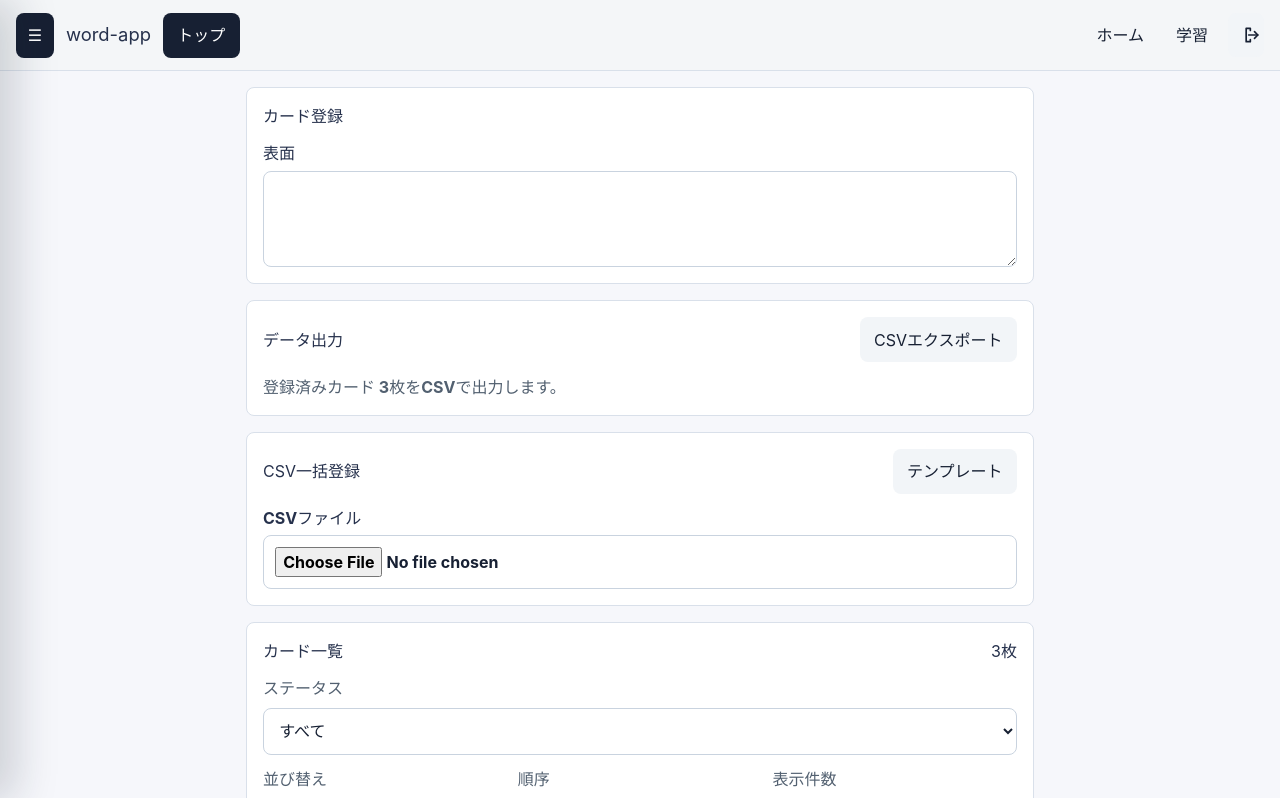
Test: App › shows the selected edit directory as breadcrumbs in the header
This screenshot has width=1280, height=798.
Step 1. Click the button named "編集ディレクトリを開く" → [35, 35], box [16,13,54,58]
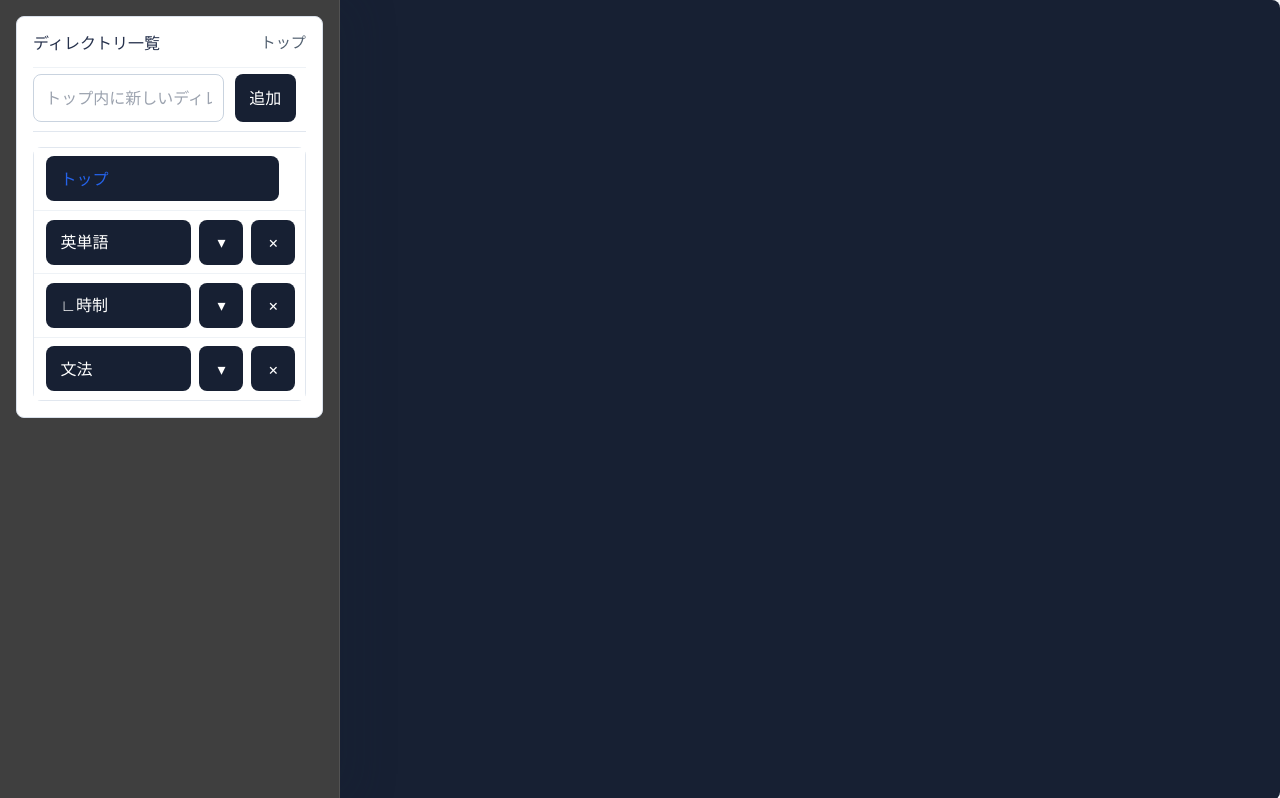
Step 2. Click the button "英単語" → [119, 242], box [46,220,191,264]
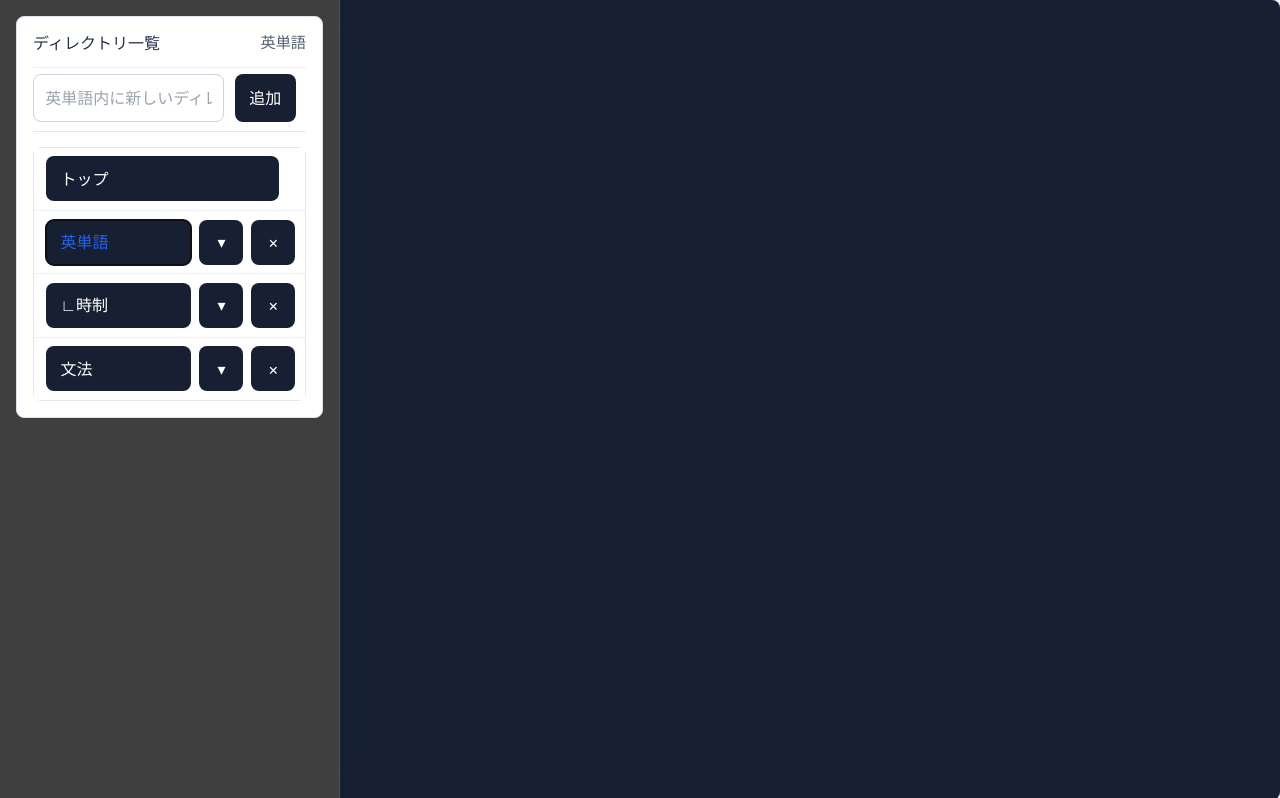
Step 3. Click the button "∟時制" → [119, 306], box [46,283,191,328]
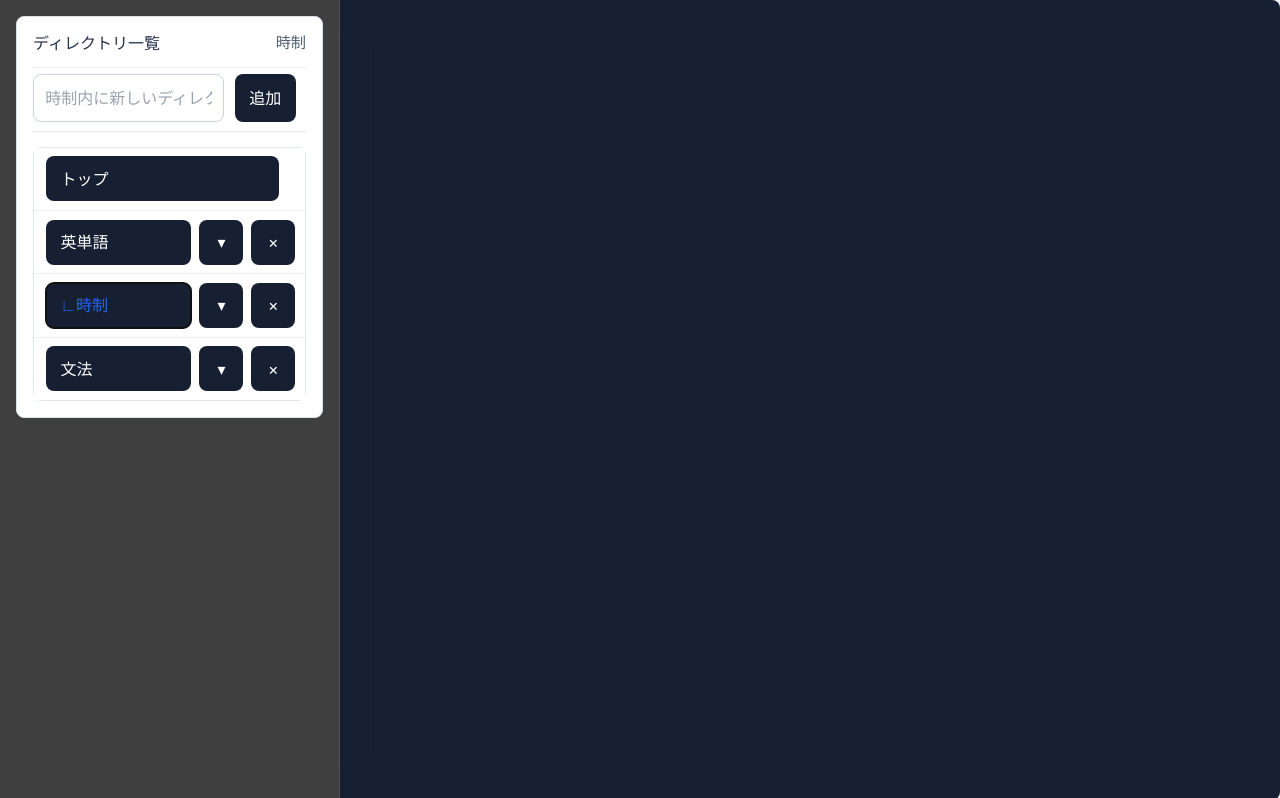
Check: the element named "現在のディレクトリ" reads "英単語 - 時制", box [163,13,318,58]
